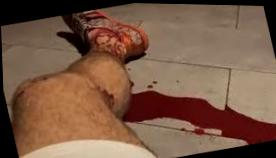Fire: (124, 89, 276, 143), (58, 8, 148, 62)
